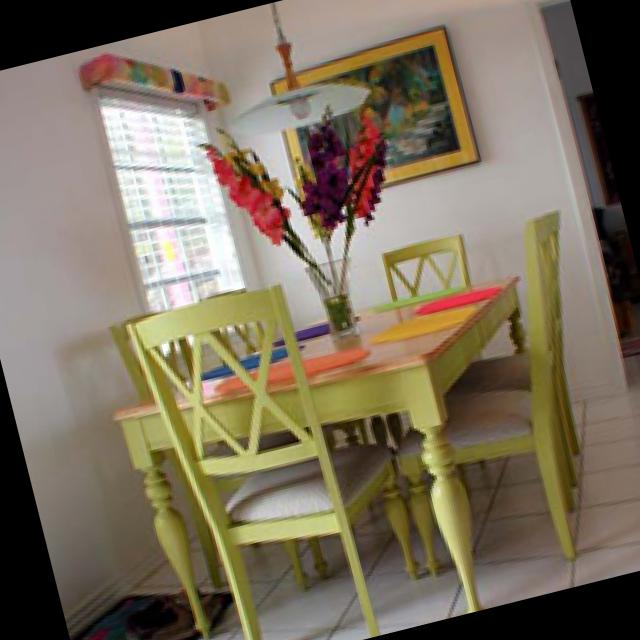2001: (101, 91, 250, 309)
bouquet: (205, 104, 386, 333)
ceiling lamps: (224, 0, 375, 133)
chair: (114, 312, 199, 396), (386, 230, 472, 296)
chair -occluded-: (132, 281, 419, 640), (442, 212, 579, 557), (550, 209, 582, 481)
door handle: (535, 0, 640, 387)
painting crop: (273, 26, 483, 205)
place mat: (220, 342, 371, 393), (376, 301, 478, 337), (418, 282, 504, 311)
small rug: (74, 590, 231, 640)
table -X: (122, 273, 526, 629)
vase -X: (306, 256, 360, 332)
